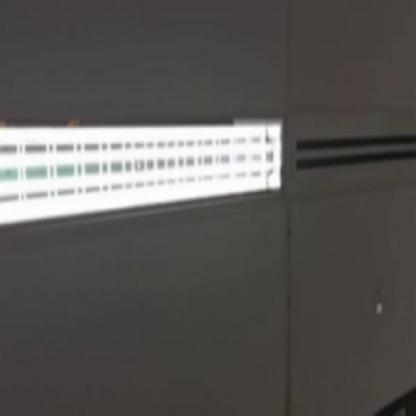light_on: (0, 92, 290, 238)
